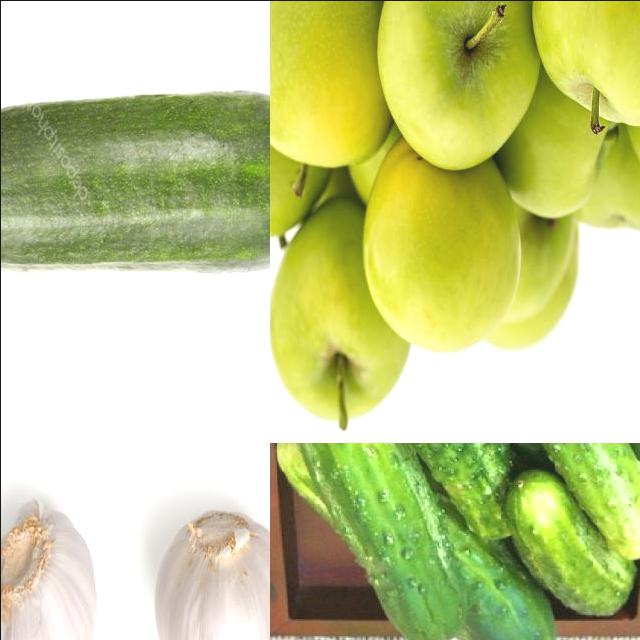cucumber: (288, 443, 467, 640), (507, 472, 632, 623), (514, 443, 640, 562), (399, 443, 515, 543)
garlic: (1, 494, 115, 640), (153, 509, 270, 640)
zucchini: (1, 95, 270, 285)
